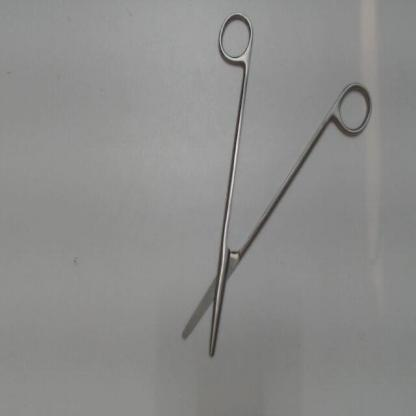9 Metzenbaum Scissors: (178, 6, 378, 367)
